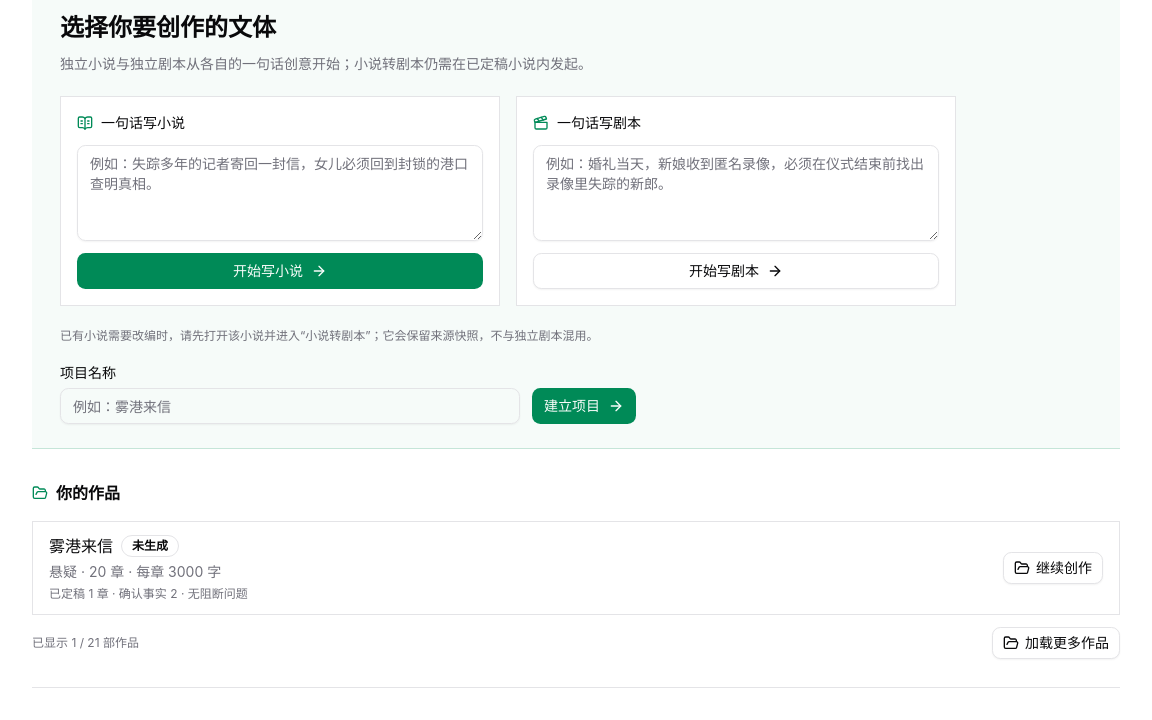
Test: StudioWorkbench › loads the next project-library page without replacing already opened works
The width and height of the screenshot is (1152, 720).
(page scrolled)
Expected: the text "雾港来信" is shown, [49, 534, 113, 558]
Click the button "加载更多作品". click: (1056, 643)
box: [992, 627, 1120, 659]
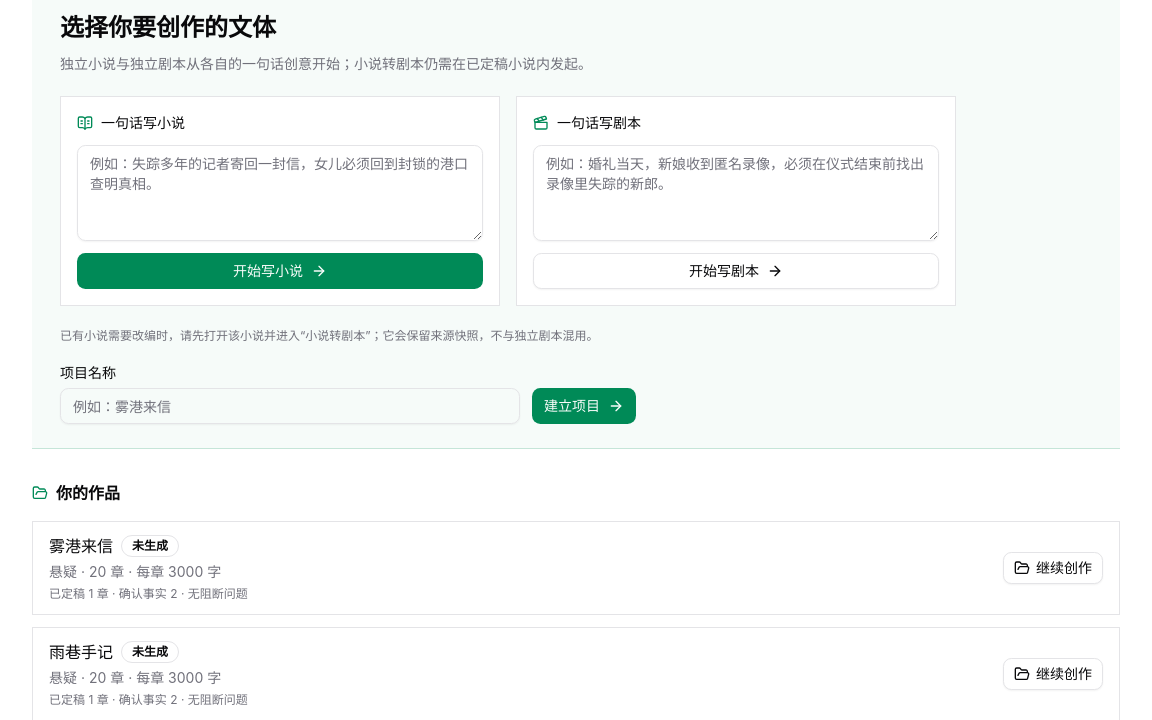
Expected: the text "雾港来信" is shown, [49, 534, 113, 558]
Expected: the text "雨巷手记" is shown, [49, 640, 113, 664]
